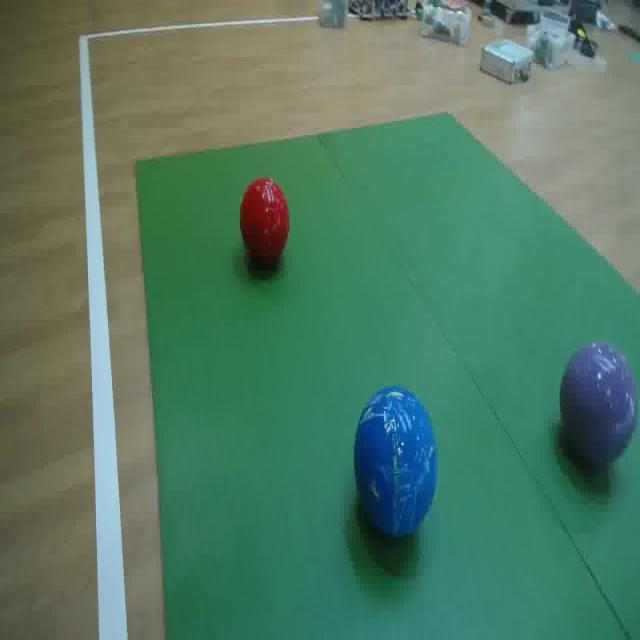blue_ball: (342, 370, 440, 546)
purple_ball: (550, 335, 638, 476)
red_ball: (241, 175, 290, 271)
